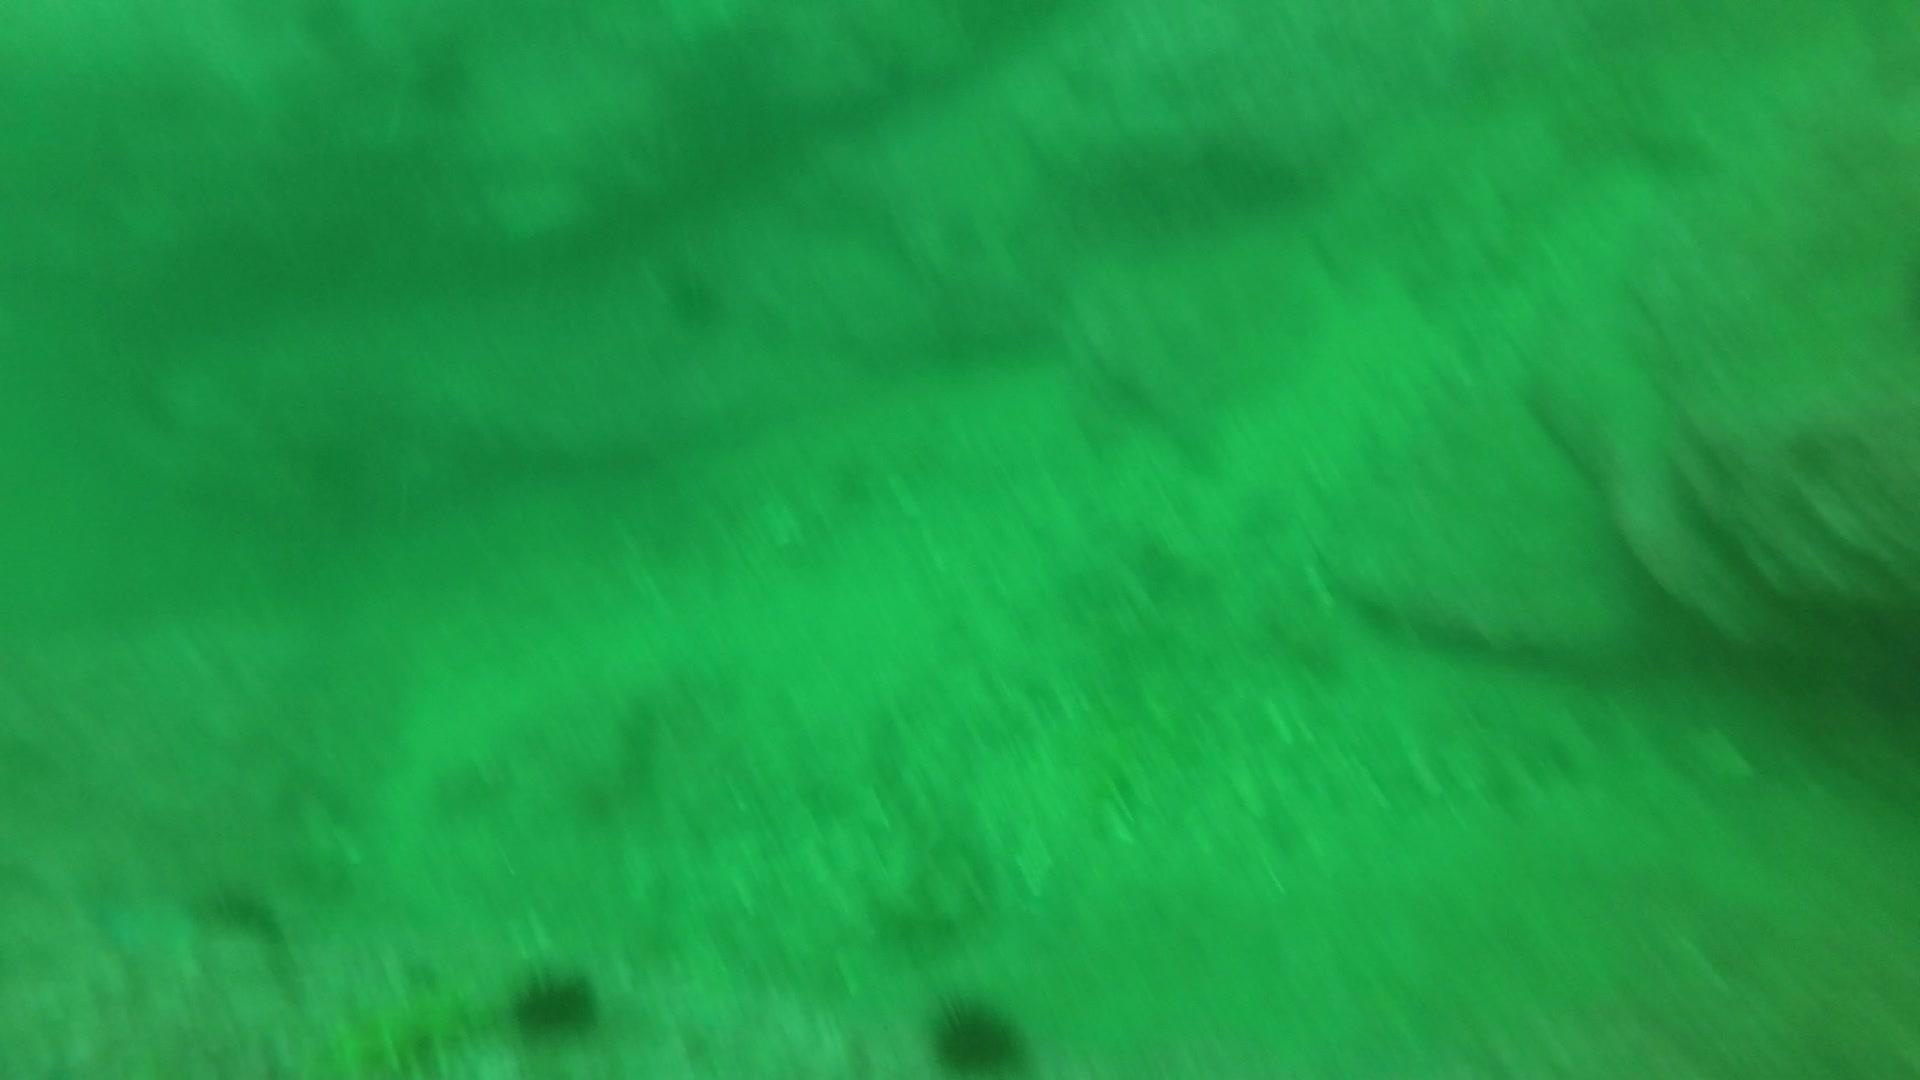echinus: (504, 960, 607, 1047), (923, 992, 1033, 1073), (658, 262, 733, 335)
holothurian: (310, 961, 509, 1077)
